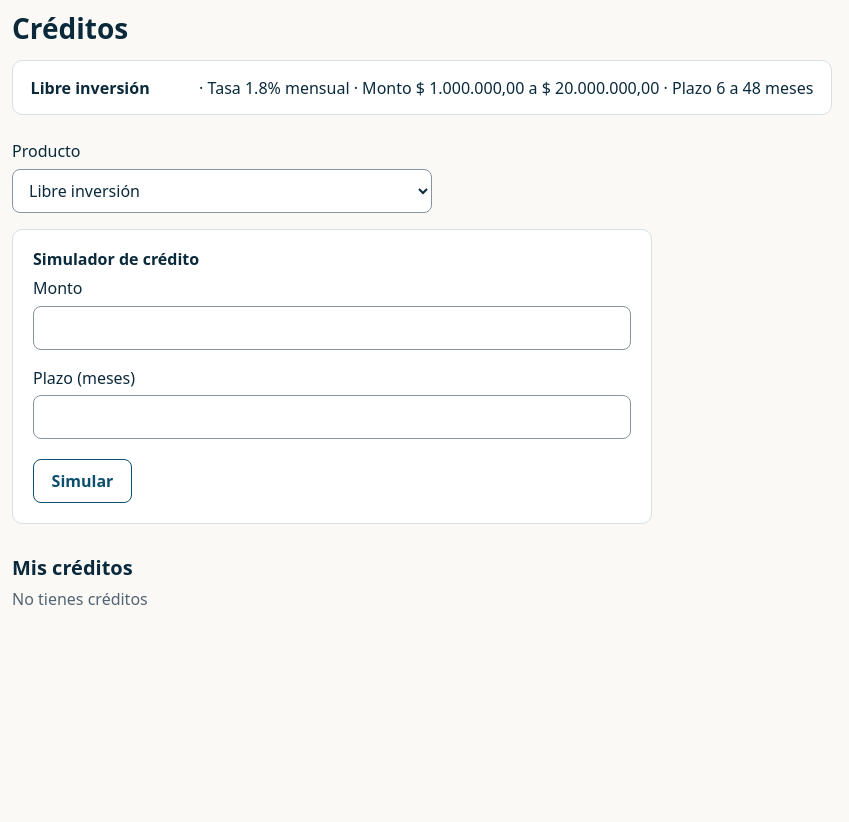
it: Créditos › el simulador muestra los valores del backend sin calcular
Type "5000000" into the number field labelled "Monto" at (332, 328), box [33,306,631,350]
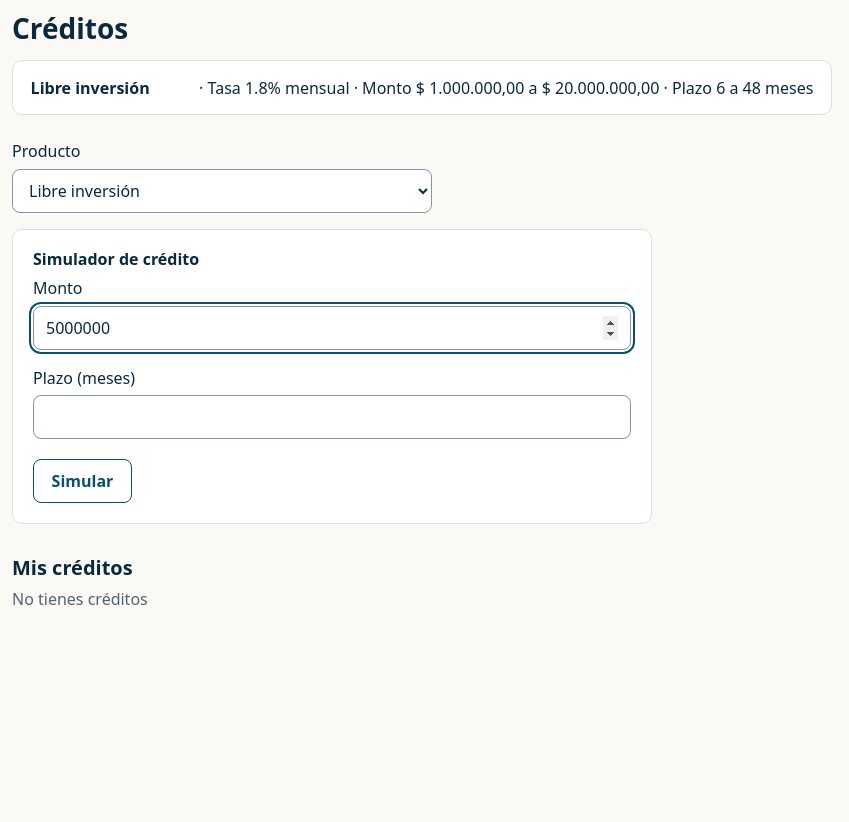
Type "12" into the number field labelled "Plazo (meses)" at (332, 417), box [33,395,631,439]
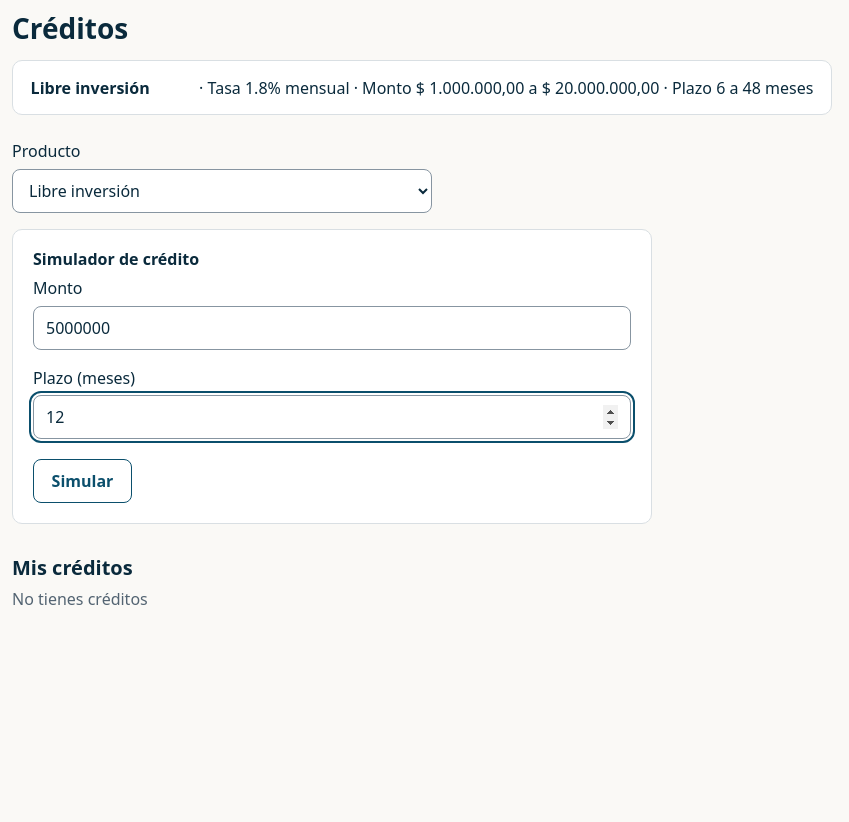
Click the button "Simular" at (82, 481), box [33,459,132,503]
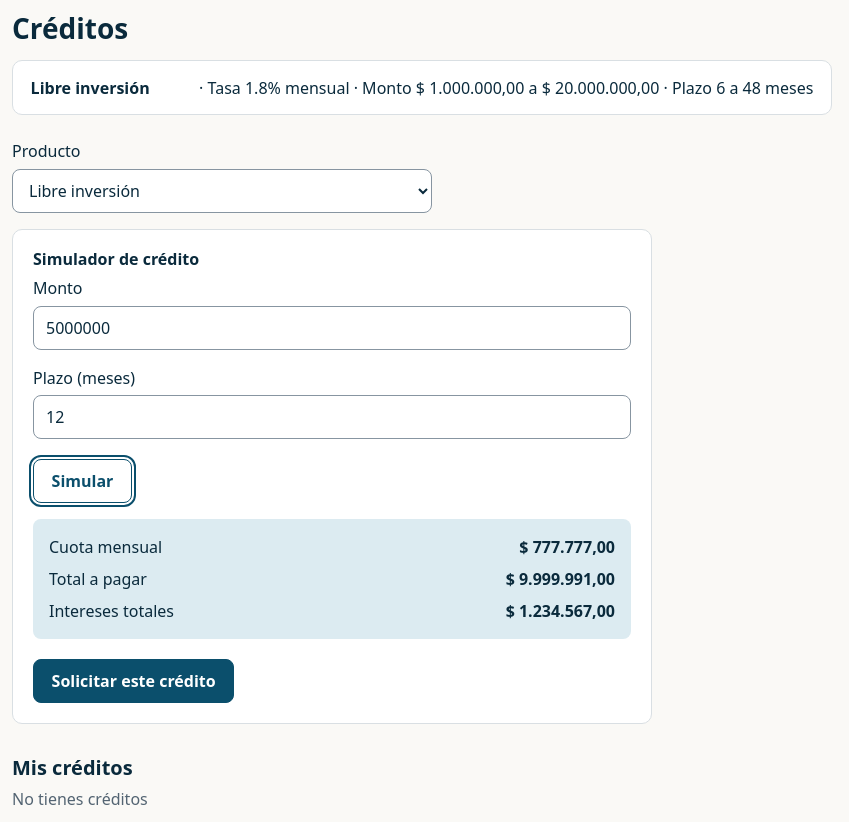
Check: the text "$ 777.777,00" is shown, box [519,535,615,559]
Check: the text "$ 9.999.991,00" is shown, box [506,567,615,591]
Check: the text "$ 1.234.567,00" is shown, box [506,599,615,623]
